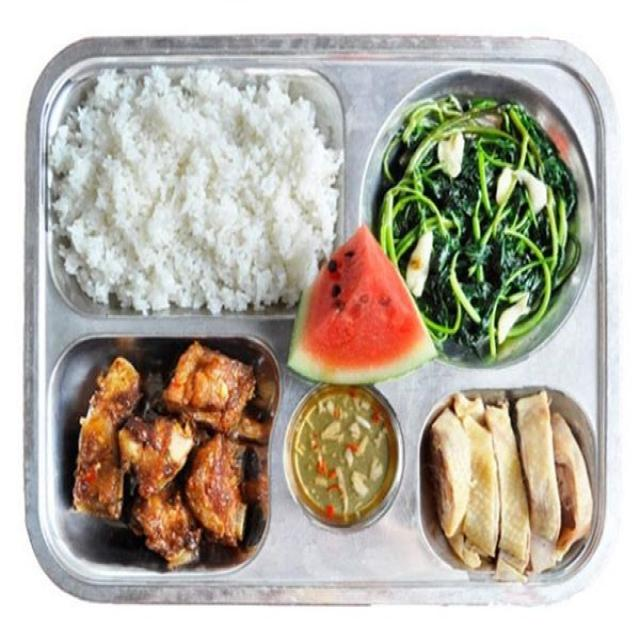com: (50, 69, 341, 314)
dua hau: (290, 225, 435, 383)
rau muong: (378, 95, 578, 359)
suon xao: (73, 341, 271, 568)
